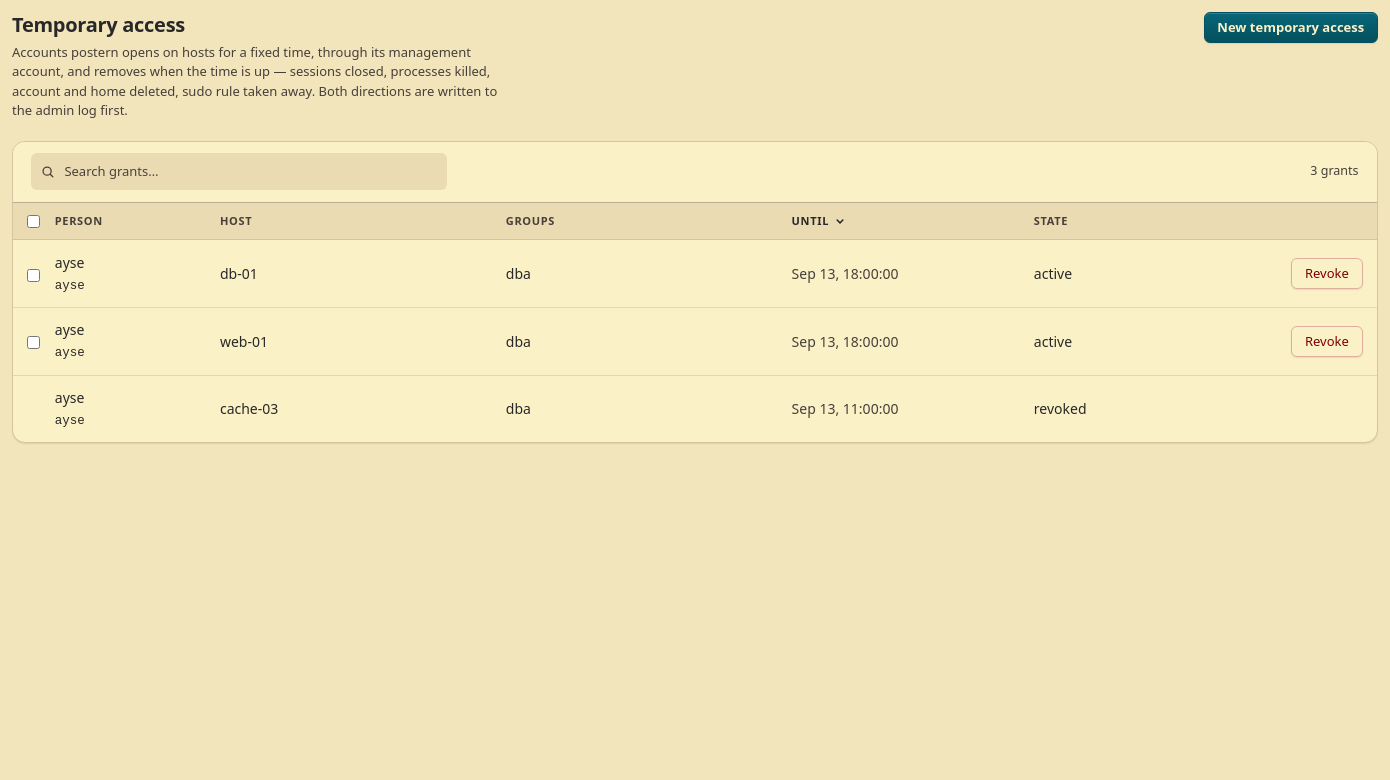
Test case: seçilen hakları sırayla geri alır ve her birinin sonucunu yazar
Expected: the text "cache-03" is shown, [206, 375, 491, 442]
Click the checkbox named "select all grants": (34, 222) [27, 215, 40, 228]
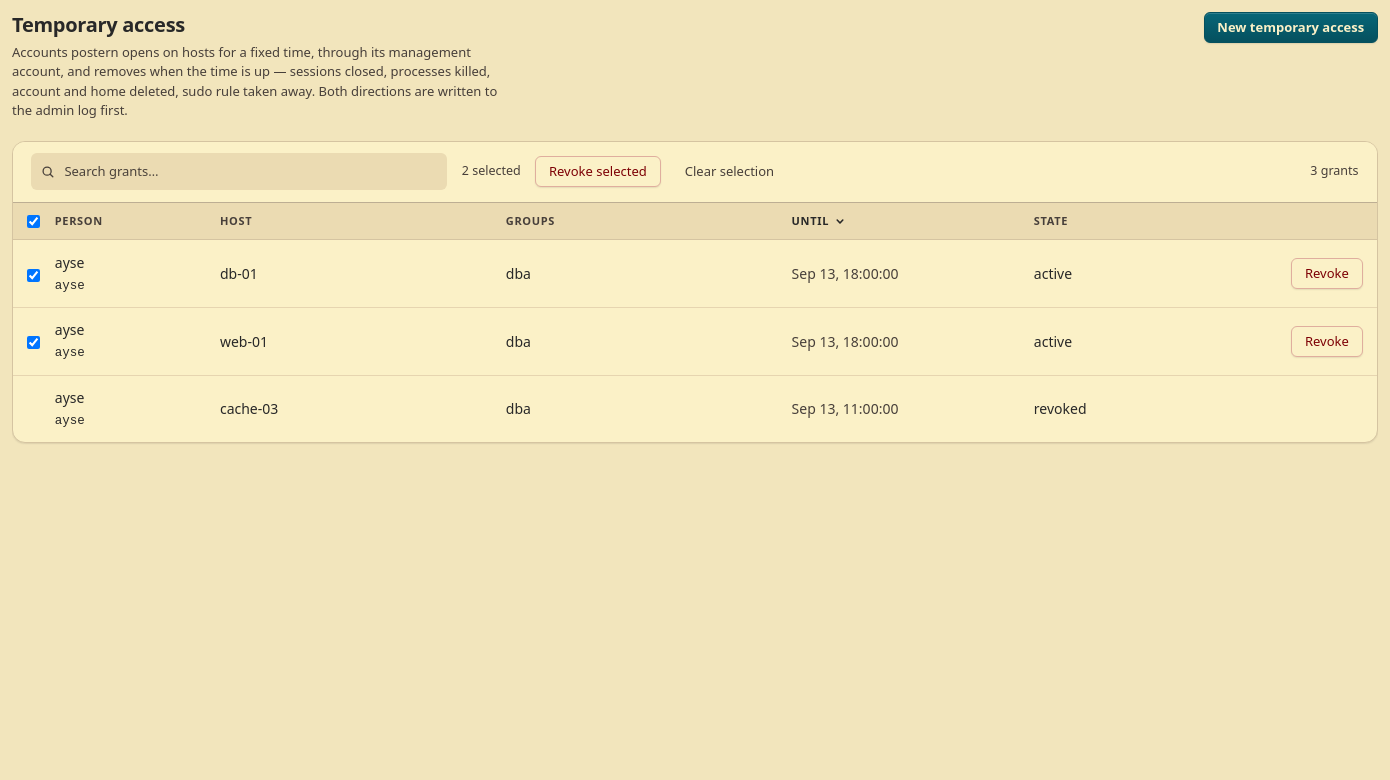
Now the text "2 selected" is shown, box [462, 162, 521, 181]
Click the button with aria-label "revoke the selected grants": (598, 172) [535, 156, 661, 187]
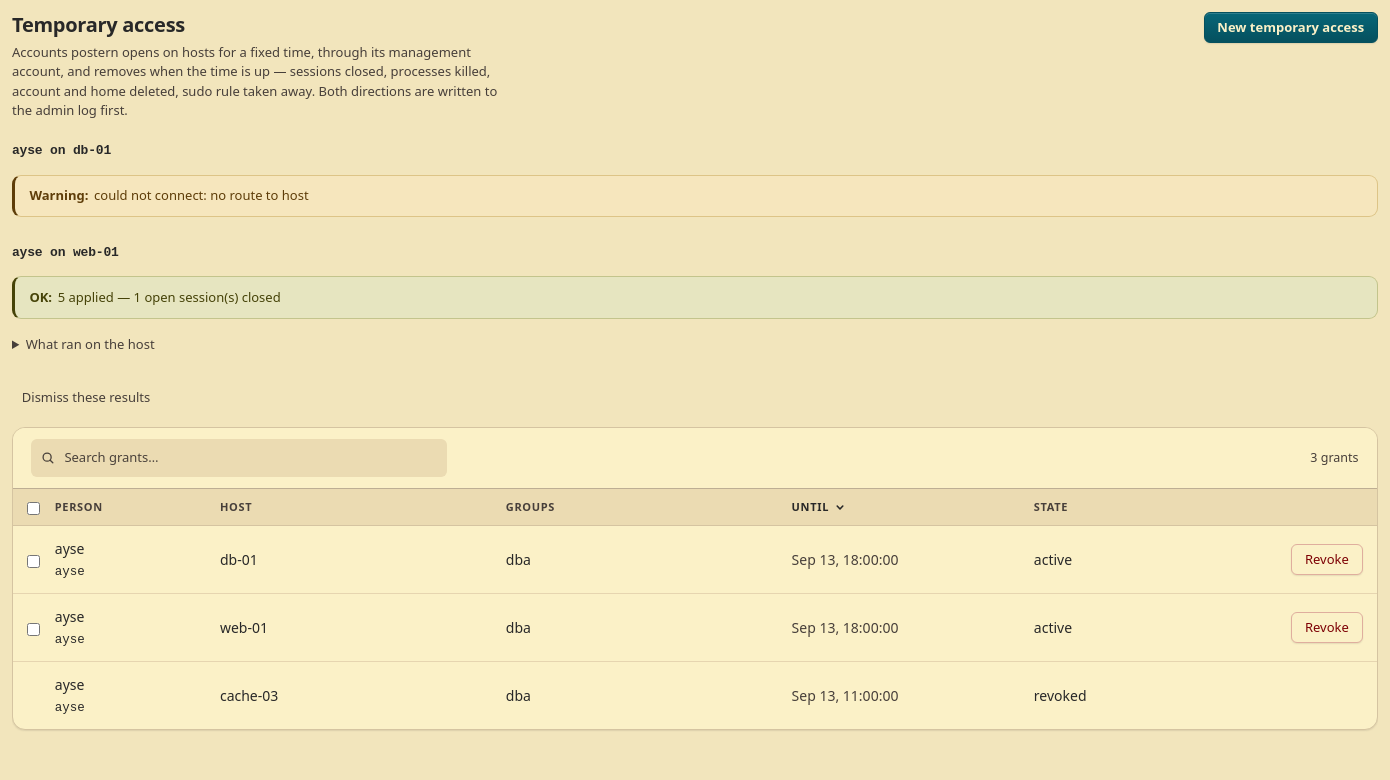
Now the text "could not connect: no route to host" is shown, box [12, 175, 1378, 217]
Now the text "5 applied — 1 open session(s) closed" is shown, box [12, 276, 1378, 319]
Now the text "2 selected" is gone
Click the button "Dismiss these results": (86, 398) [12, 382, 160, 413]
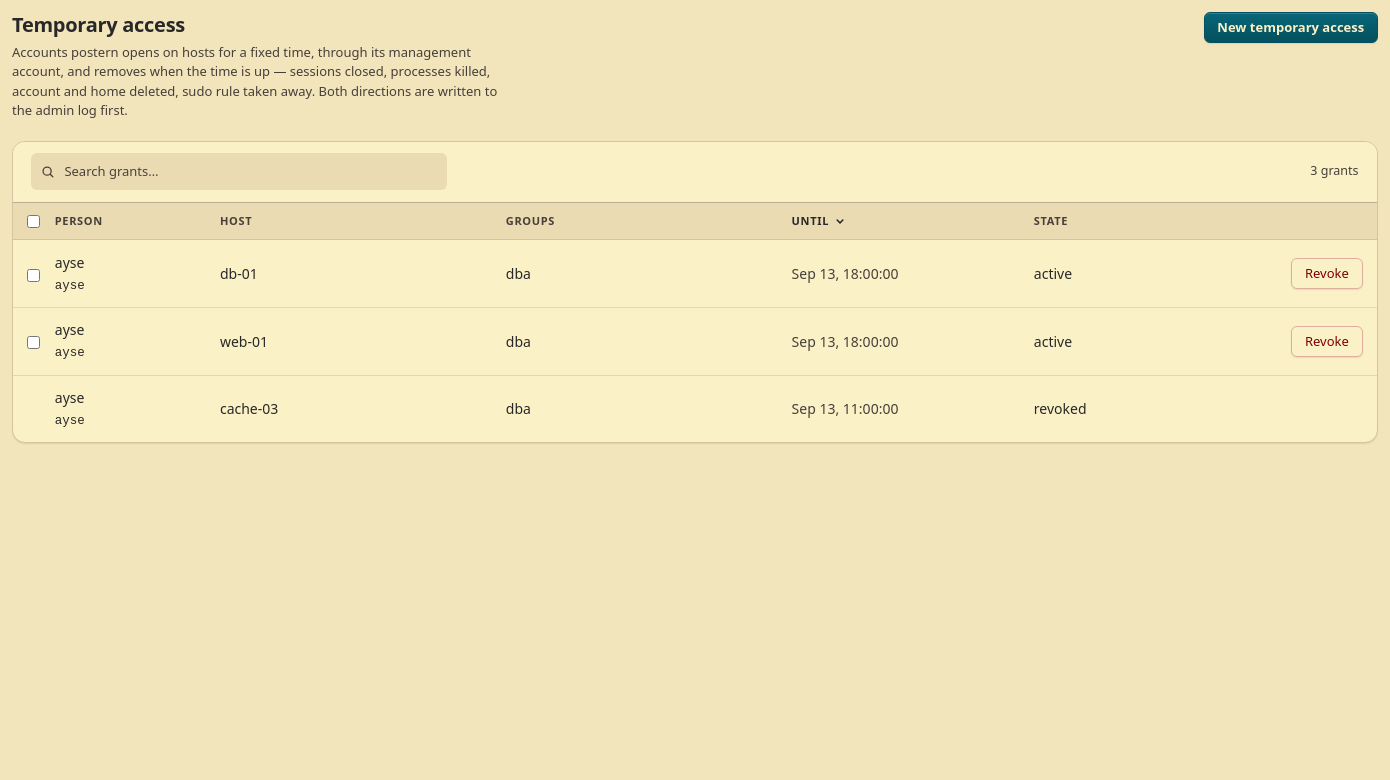
Now the text "no route to host" is gone
